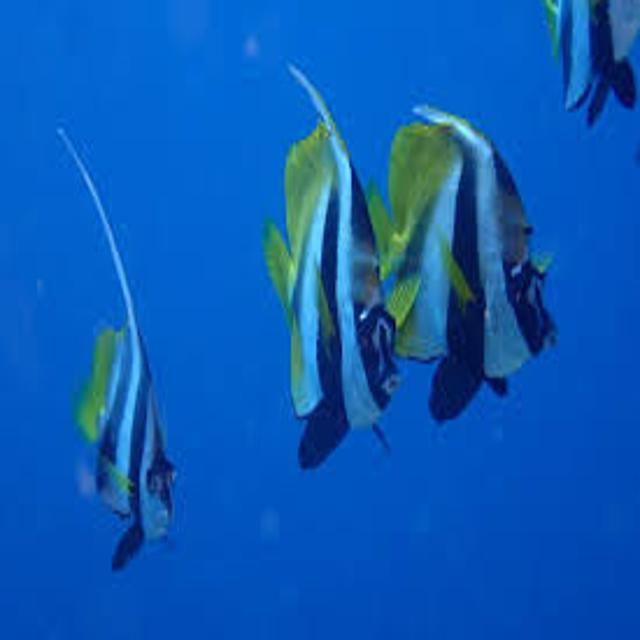fish: (366, 105, 560, 425), (262, 57, 395, 473), (59, 128, 171, 573), (545, 0, 640, 128)
